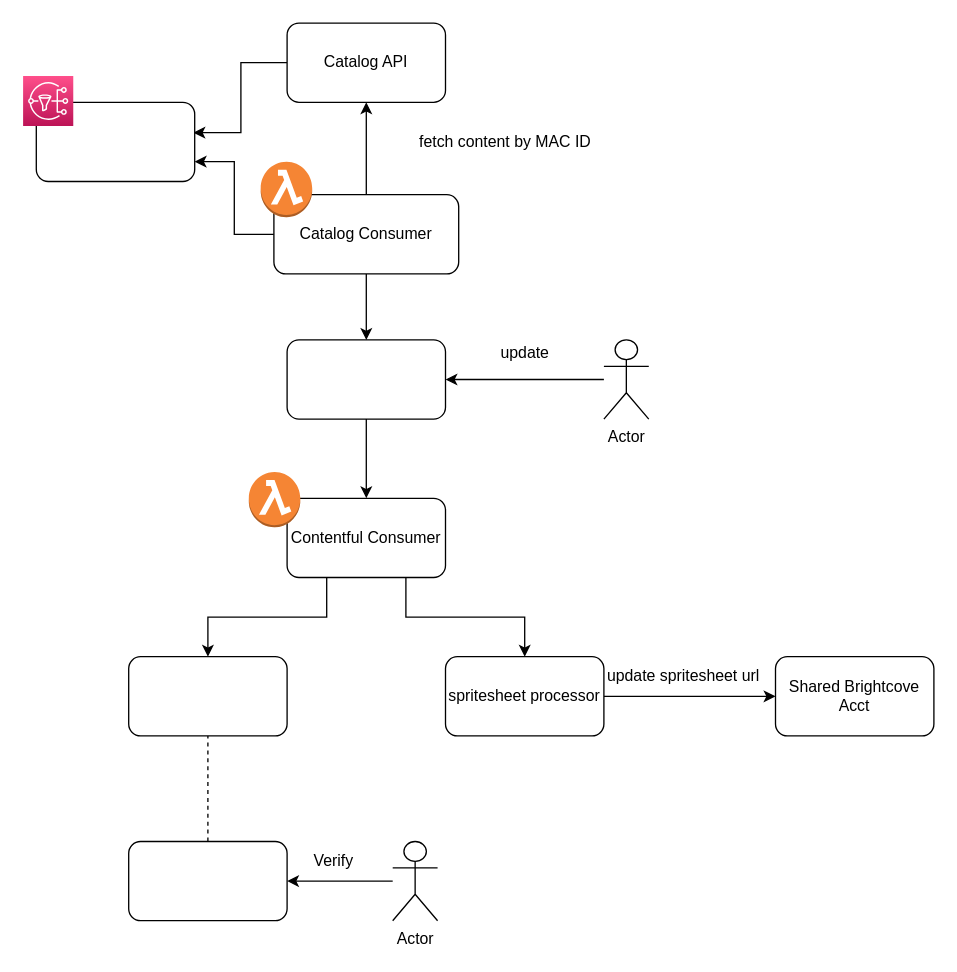
This 957x972 diagram has some shape labels left out. The centre of each missing label's shape, as x and y in pixels:
Admin Console: [207,880]
Algolia, MW DB update, image copy: [207,695]
Neon Contentful: [366,379]
SNS topic: [115,141]
